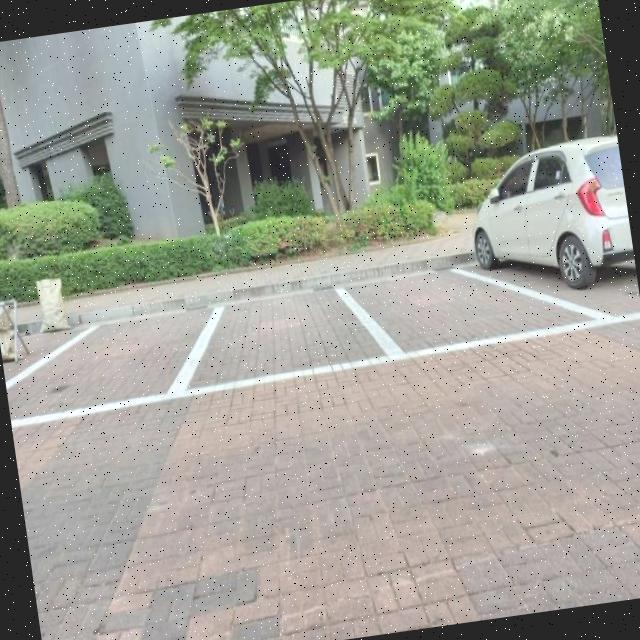Car: (461, 136, 638, 308)
Vacant: (0, 303, 216, 431), (202, 274, 380, 393), (371, 248, 502, 372)
